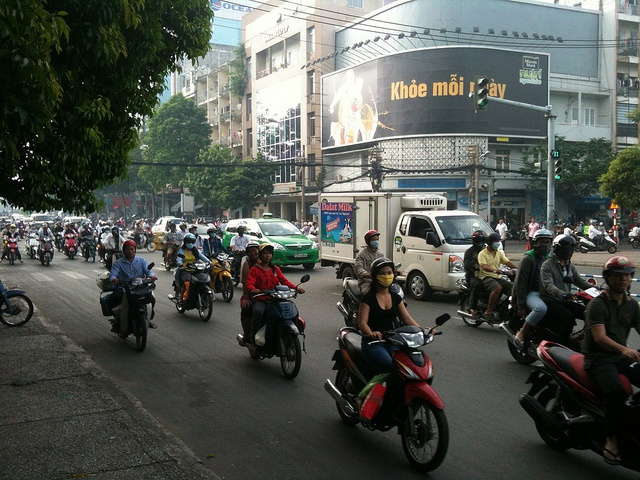non-vehicle: (324, 313, 451, 472), (515, 336, 607, 452), (235, 285, 302, 379), (98, 260, 156, 355), (506, 302, 585, 363), (337, 263, 406, 330), (457, 269, 518, 327), (168, 258, 216, 325), (0, 278, 33, 326), (210, 251, 235, 302), (35, 232, 56, 266), (3, 236, 19, 268), (80, 245, 93, 264)
